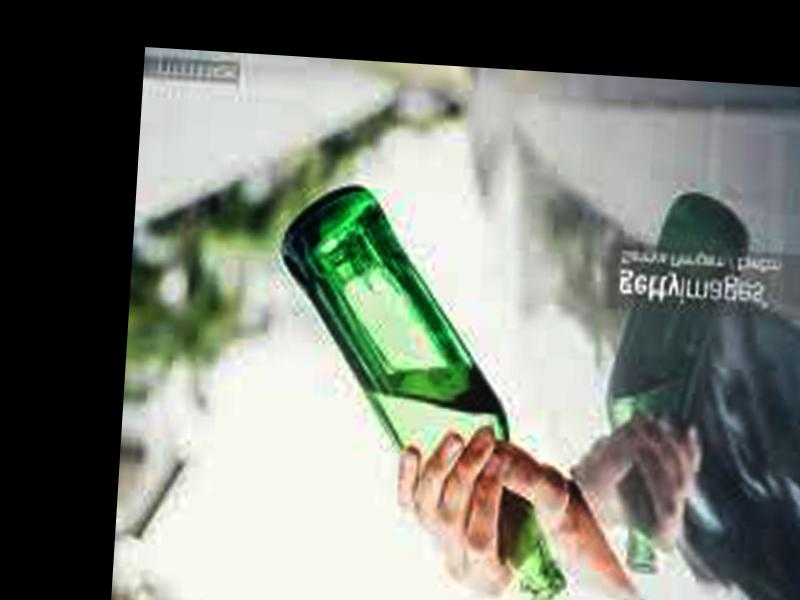Beer: (261, 183, 593, 600)
